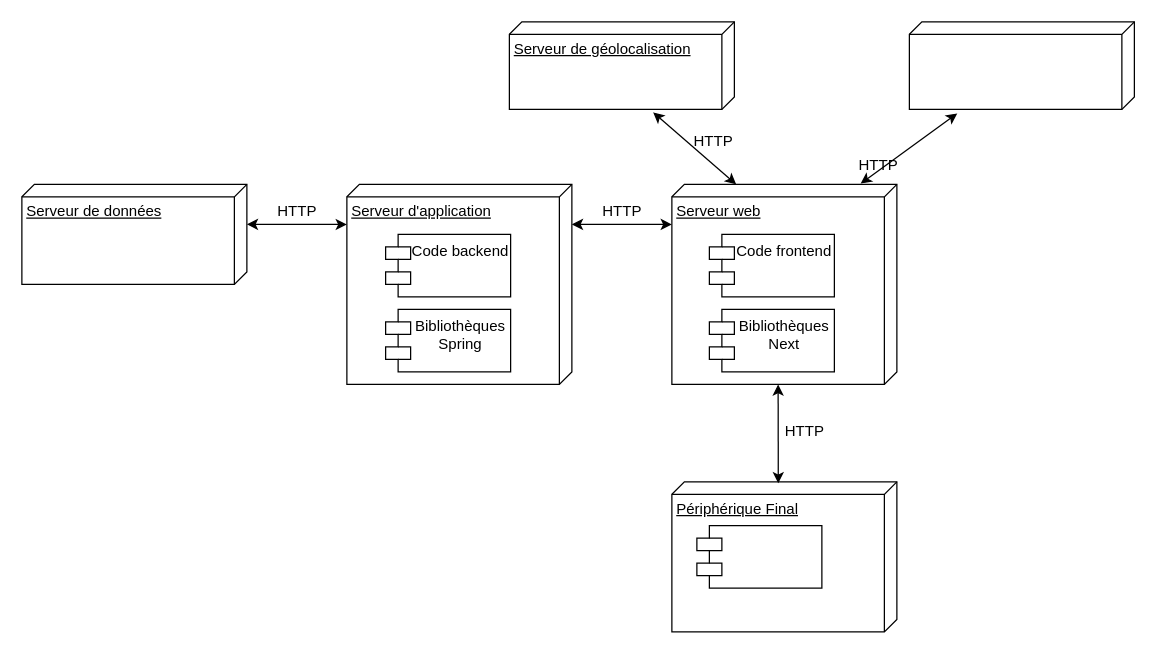
Some shapes in this 1156 by 654 pixel diagram are drawn without their labels. The centre of each missing label's shape, as x and y in pixels:
Navigateur: the point at 759,556
Serveur de OpenStreetMap: the point at 1021,65
